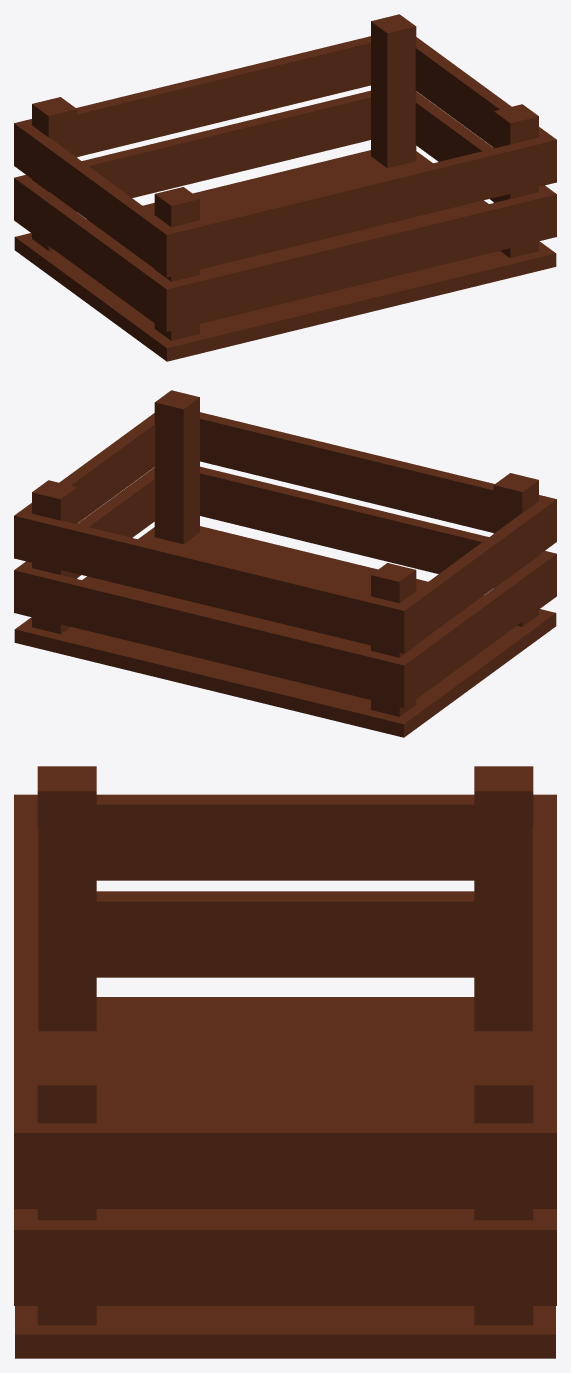
Rendered from case.fbx.
3 views of the same model, one above another, from view 1: azimuth 30°, elevation 25°; view 2: azimuth 150°, elevation 25°; view 3: azimuth 270°, elevation 25° (orthographic). The views are drawn at different scales.
Visible parts, largest first — view 1: case; view 2: case; view 3: case.
Boxes of the visible parts, x1,y1,x2,y2 form: case: (14, 14, 556, 361); case: (14, 390, 556, 737); case: (14, 766, 556, 1358).
Bounding box in the file's own units: 0.9435 × 0.343 × 0.6394.
